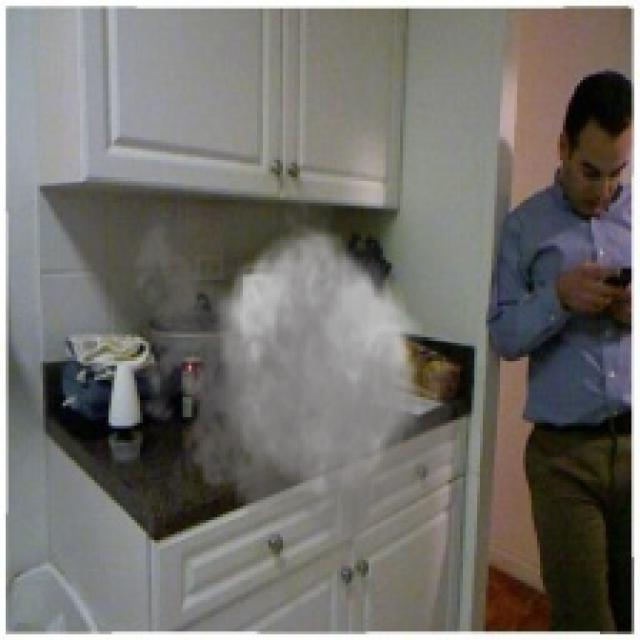Smoke: (122, 155, 472, 574)
